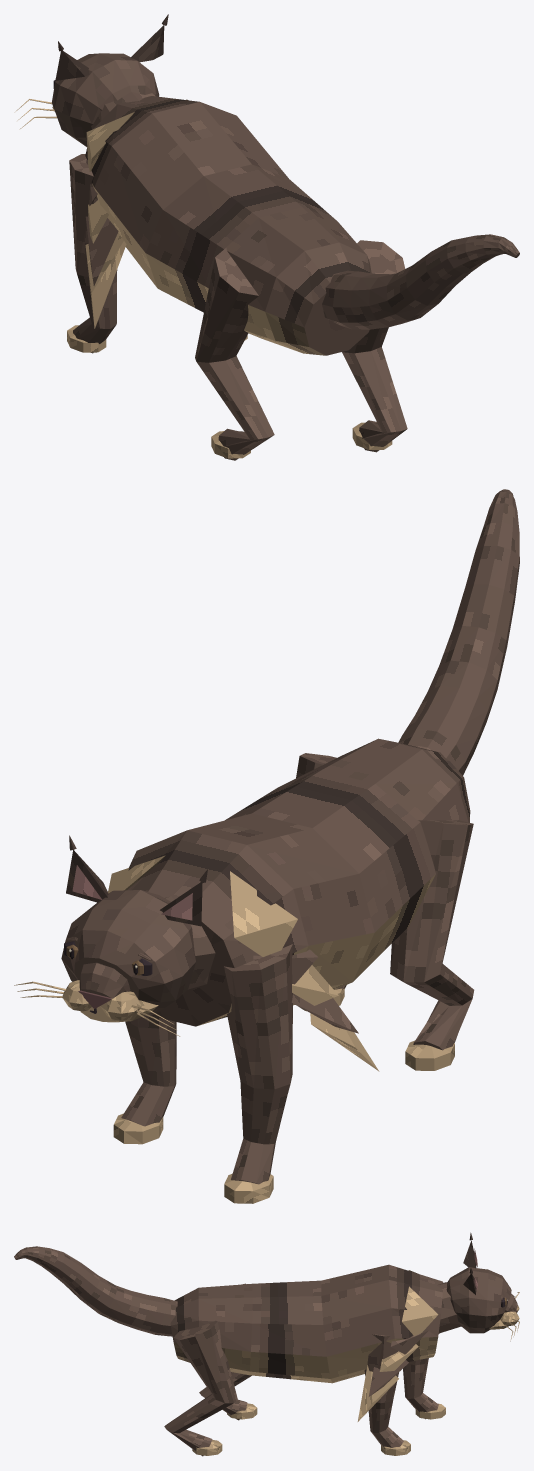
The model's file is mon_cat_maine_coon.glb.
3 renders of one model, top to bottom at view 1: azimuth 30°, elevation 25°; view 2: azimuth 150°, elevation 25°; view 3: azimuth 270°, elevation 25°, orthographic. The views are drawn at different scales.
Parts seen in each view (by area): view 1: closed_body; view 2: closed_body; view 3: closed_body.
Part boxes in pixels (bbox=[...]): closed_body: bbox=[14, 14, 519, 460]; closed_body: bbox=[14, 489, 519, 1203]; closed_body: bbox=[14, 1232, 519, 1456].
Size of the model in its own units: 0.2884 by 0.4113 by 0.9182.
1 material, 1 textured.
